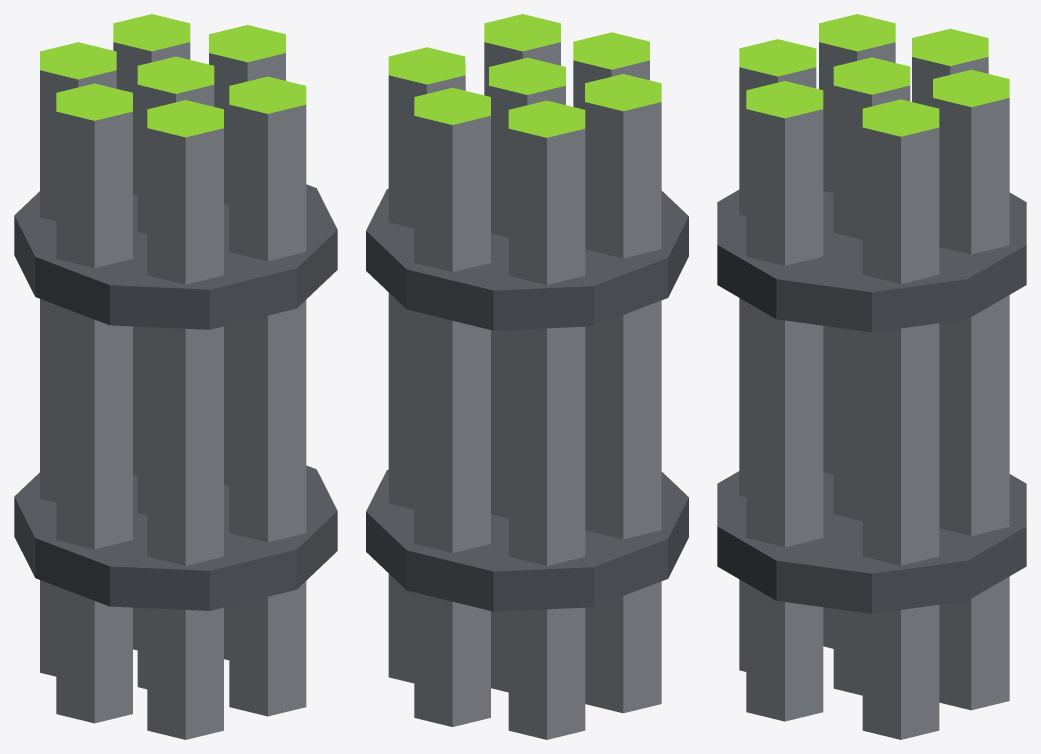
The model's file is fuel_rod.obj.
The picture shows the model from 3 angles, left to right: view 1: azimuth 30°, elevation 25°; view 2: azimuth 150°, elevation 25°; view 3: azimuth 270°, elevation 25°; orthographic projection.
Bounding box in the file's own units: 0.44 × 0.9 × 0.4184.
